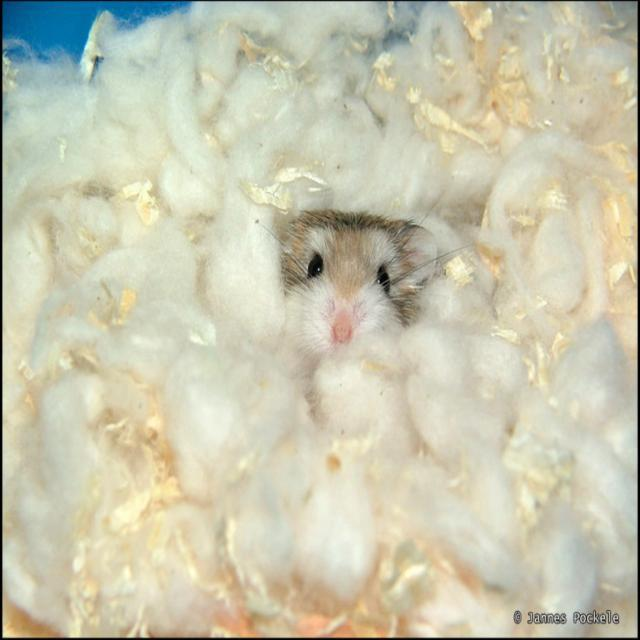rat: (273, 206, 443, 354)
